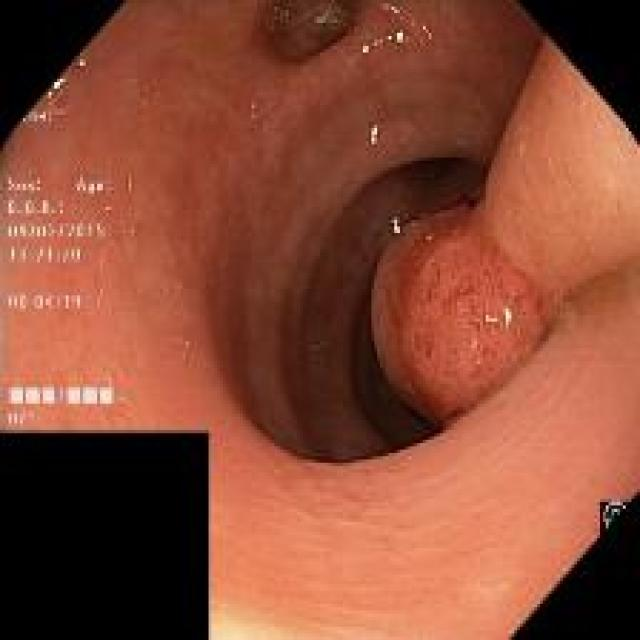Polyps: (371, 42, 640, 427)
